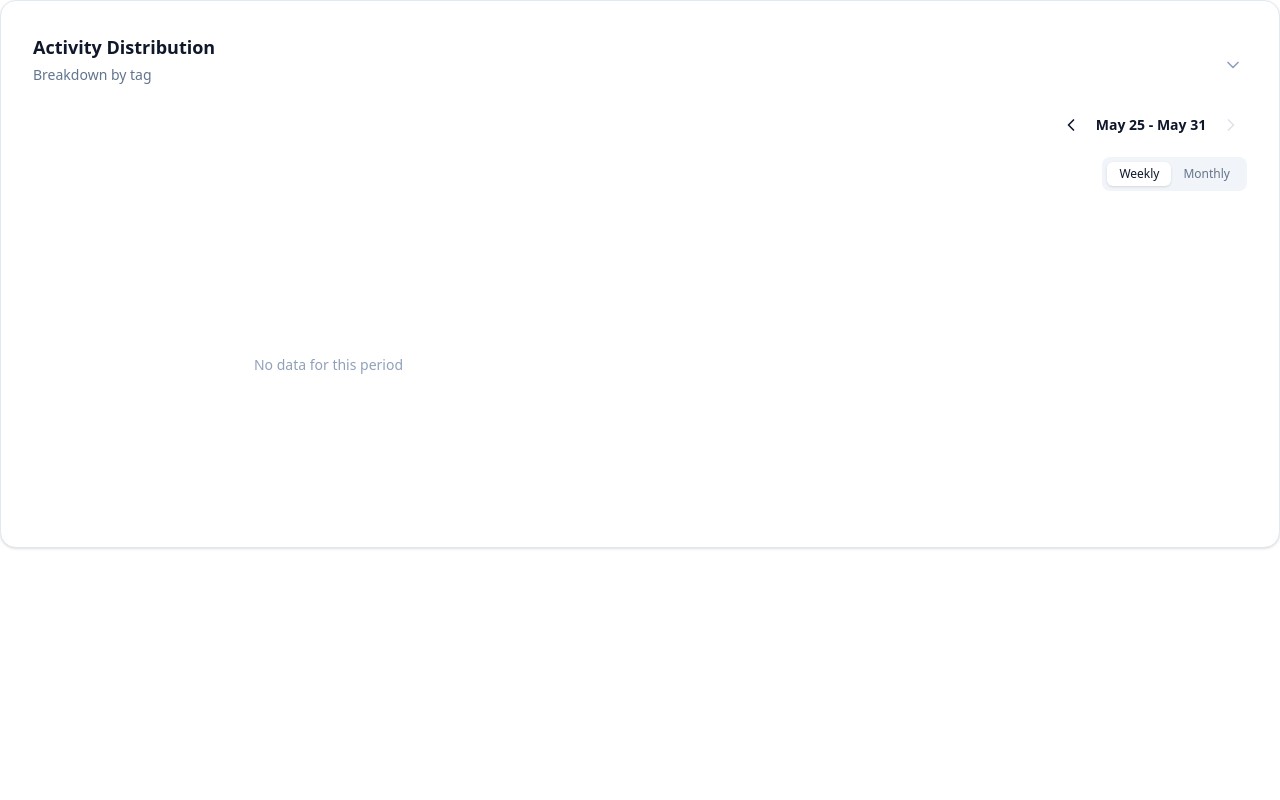
PieChartCard › enables the next button when viewing a past period
Click the button named "Previous period" at (1071, 125), box [1055,109,1087,141]
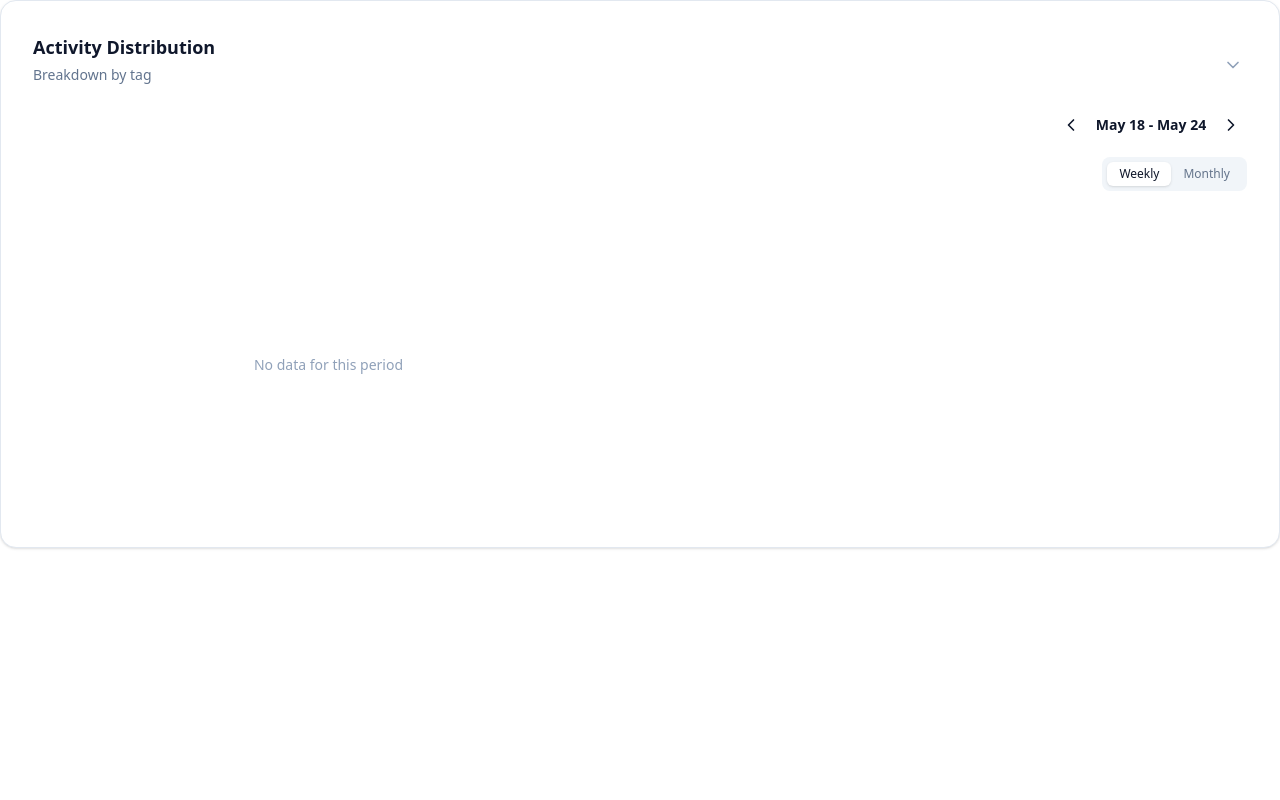
Expected: the button named "Next period" is enabled, [1215,109,1247,141]
